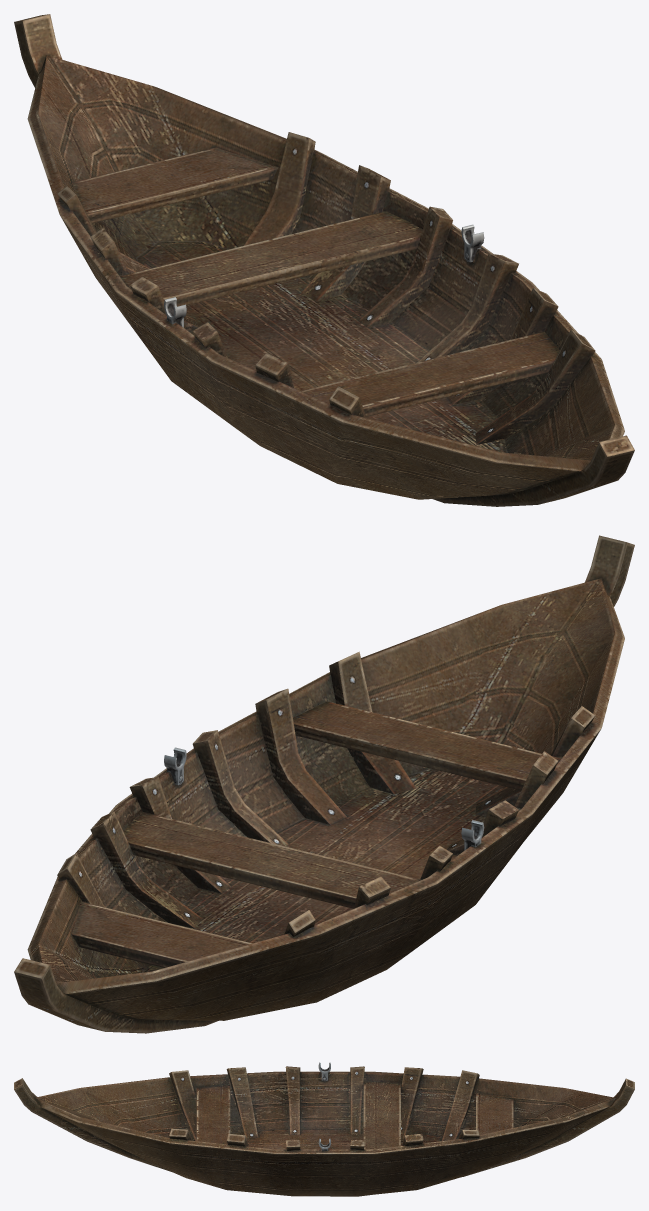
The model's file is Boat.obj.
The picture shows the model from 3 angles, top to bottom: view 1: azimuth 30°, elevation 25°; view 2: azimuth 150°, elevation 25°; view 3: azimuth 270°, elevation 25°; orthographic projection. The views are drawn at different scales.
Visible parts, largest first — view 1: boat; view 2: boat; view 3: boat.
Boxes of the visible parts, x1,y1,x2,y2 form: boat: [14, 14, 634, 506]; boat: [14, 535, 634, 1033]; boat: [14, 1062, 634, 1196].
Bounding box in the file's own units: 1.35 × 0.8194 × 4.3.
